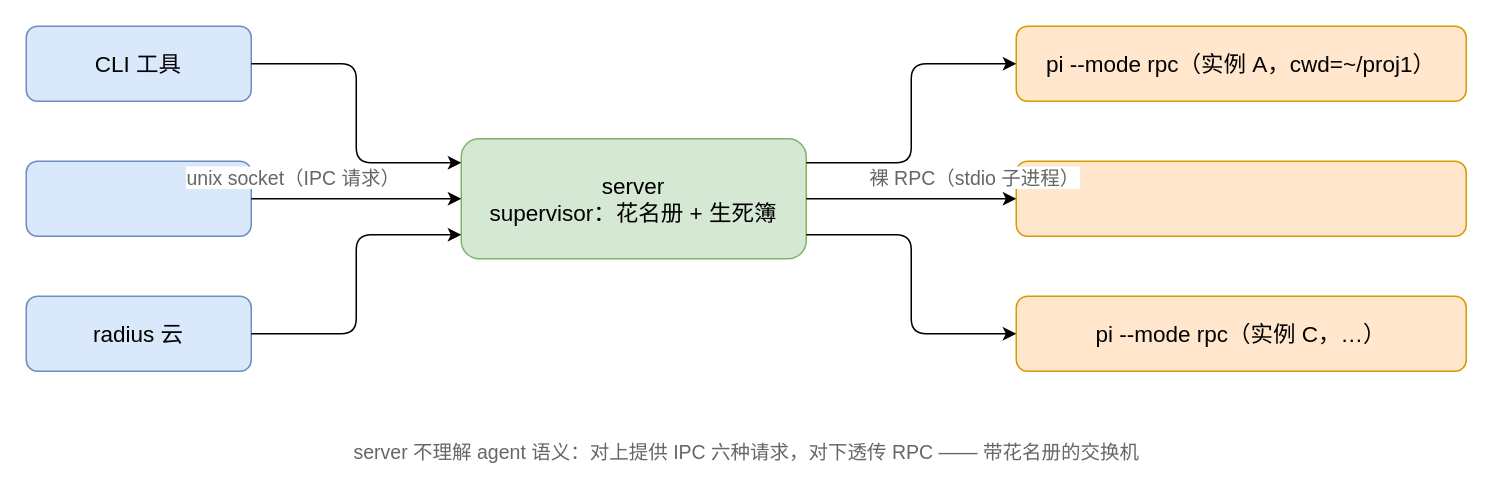
Image size: 1493x503. Some labels were removed from this diagram. Here are the shapes that lost their labels. From the top down, the centre of each, then its label:
At pixel 138 198: "IDE 插件".
At pixel 1240 198: "pi --mode rpc（实例 B，cwd=~/proj2）".
